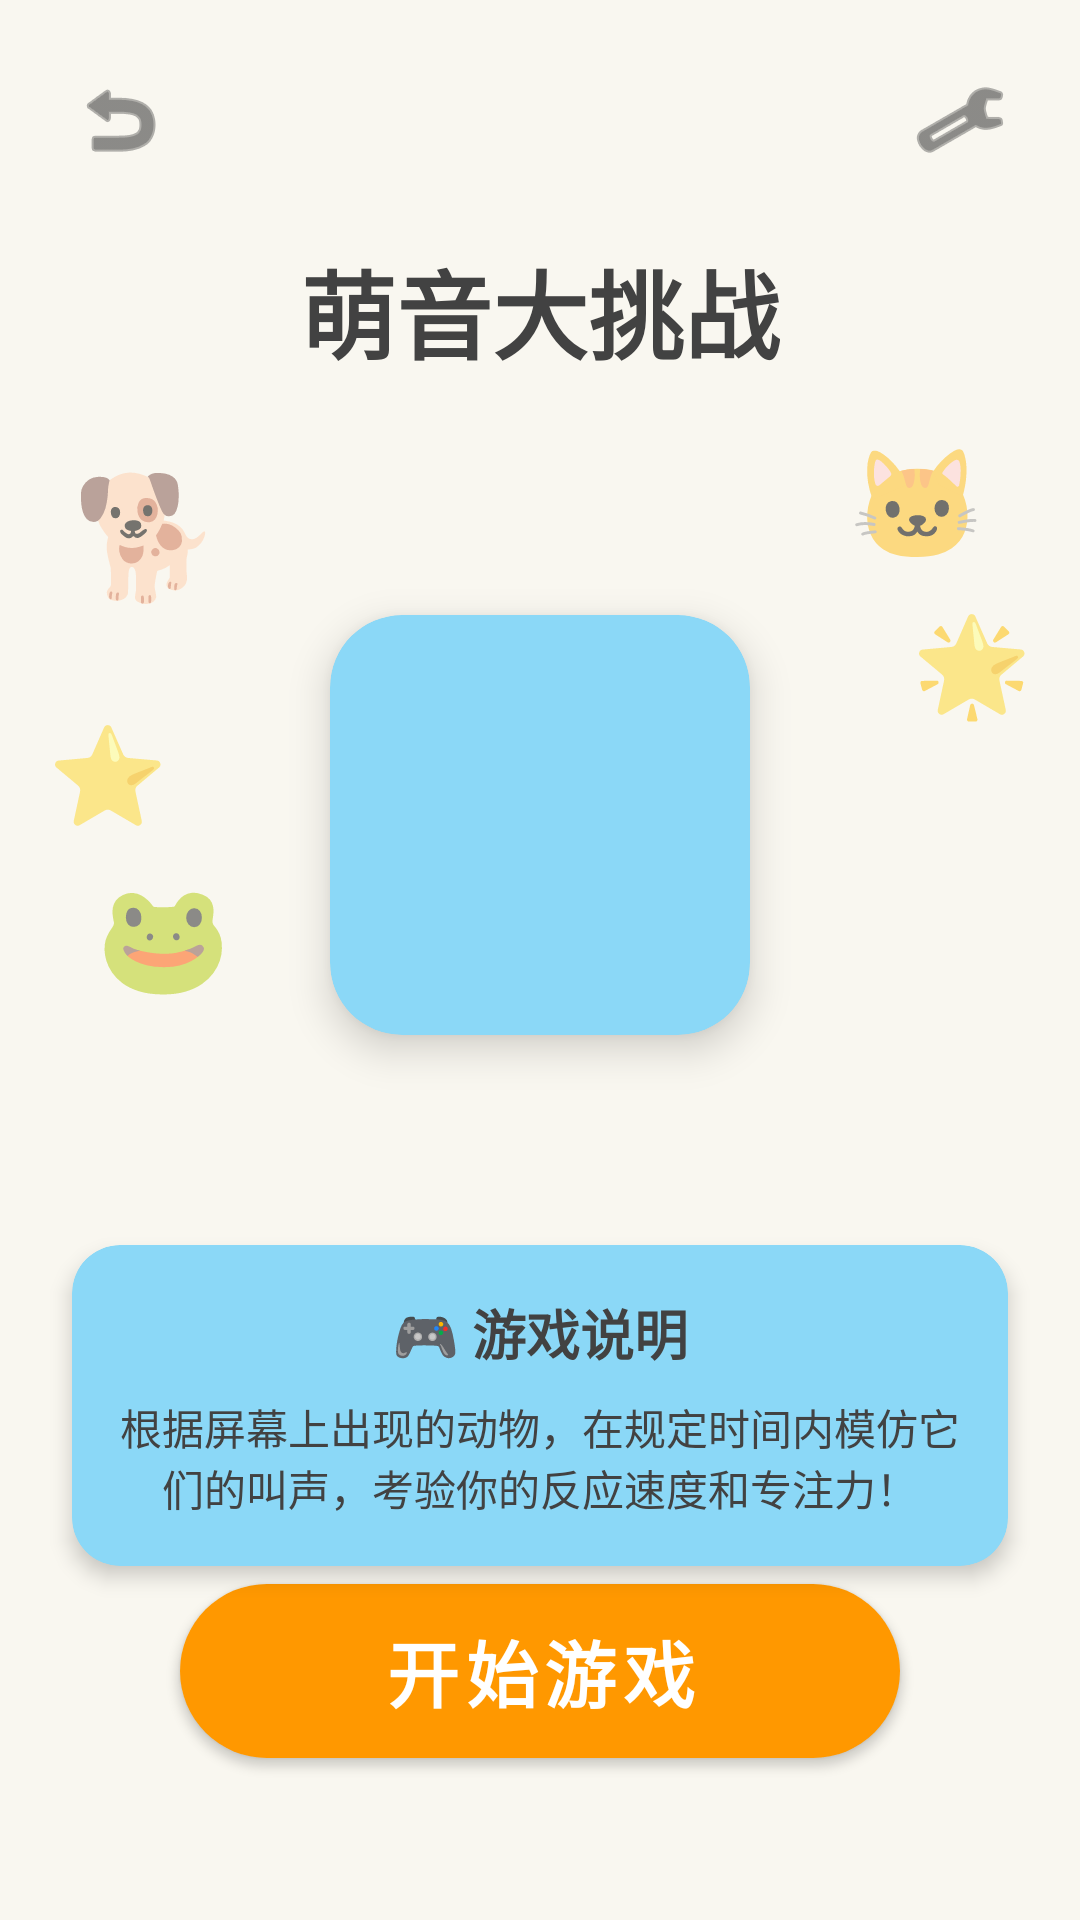

Where icons sit on this 1080×1920 app screen, as (x1, y1, x2, y2):
设置: (917, 87, 1003, 153)
返回: (87, 89, 156, 152)
